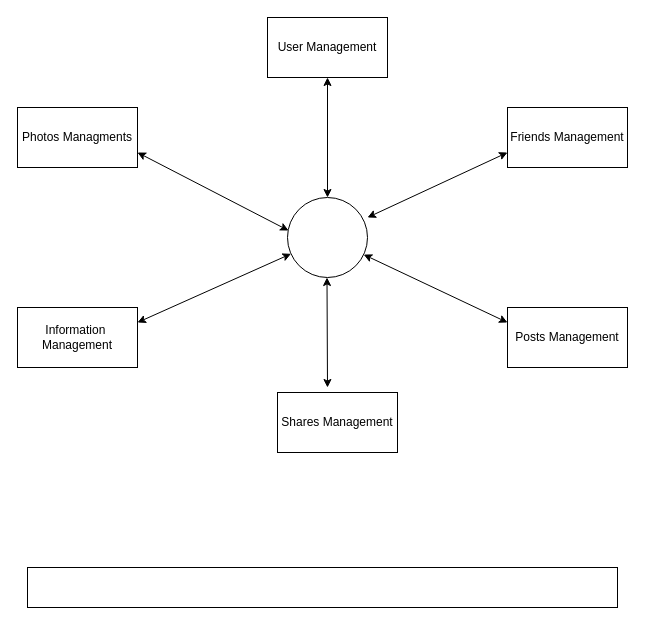
The diagram is 645 pixels wide and 625 high, and some of its shapes have lost their labels. The centre of each missing label's shape, as x and y in pixels:
"0 - LEVEL DFD OF SOCIAL NETWORKING SITE" belongs at pixel 322 587.
"Social Networking Site" belongs at pixel 327 237.
